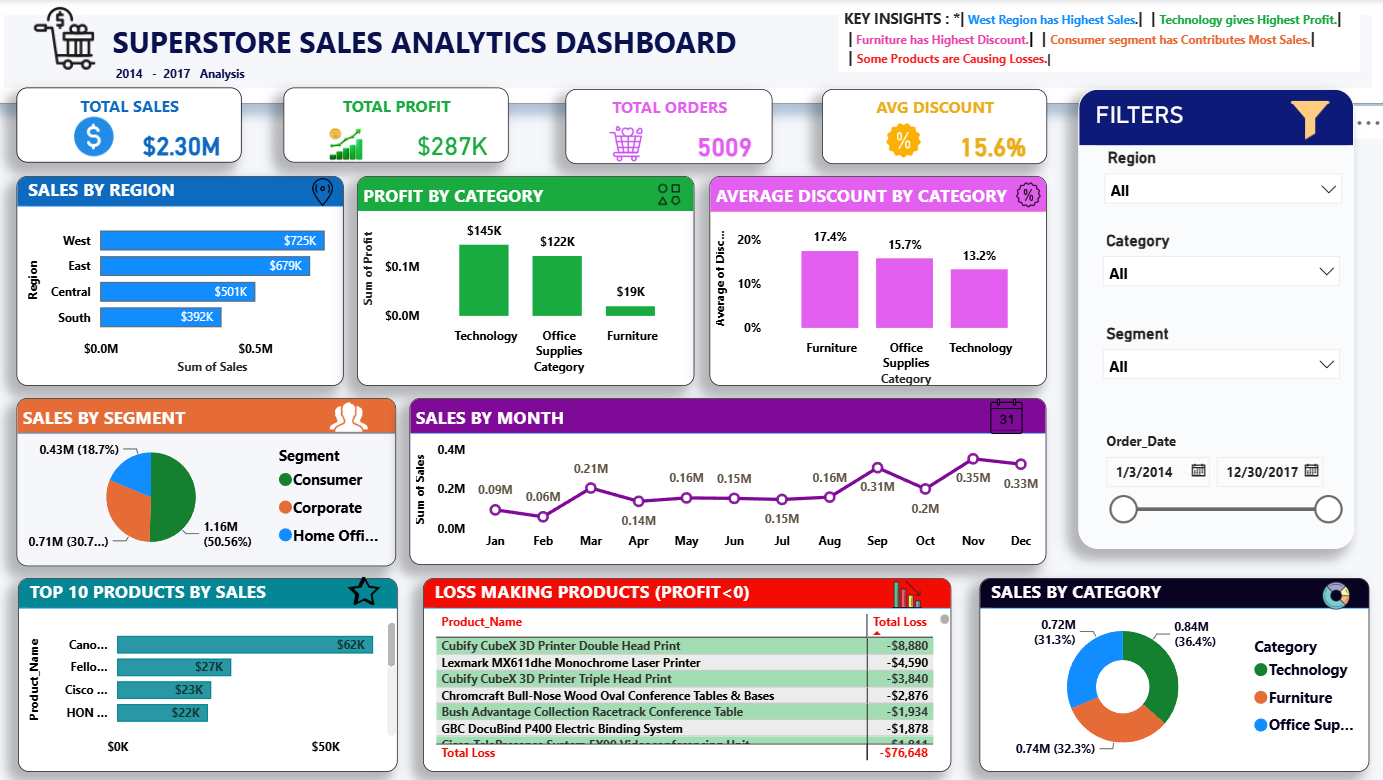

What the dashboard file says about the page in this screenshot:
{"tool":"powerbi","page":{"name":"Sales Analysis","canvas":[1280,720],"ordinal":2},"visuals":[{"type":"textbox","box":[0,0,1280.4,96.1],"z":0},{"type":"image","box":[27.4,0,85.1,71.4],"z":1000},{"type":"cardVisual","title":"TOTAL SALES","fields":{"Data":["Sum(SampleSuperstore.Sales)"]},"box":[26.1,81,205.8,68.6],"z":2000},{"type":"image","box":[64.6,99.2,64.6,53.6],"z":3000},{"type":"cardVisual","title":"TOTAL PROFIT","fields":{"Data":["Sum(SampleSuperstore.Profit)"]},"box":[270.3,81,205.8,68.6],"z":4000},{"type":"cardVisual","title":"TOTAL ORDERS","fields":{"Data":["SampleSuperstore.Total Orders"]},"box":[528.3,82.3,189.4,68.6],"z":5000},{"type":"cardVisual","title":"AVG DISCOUNT","fields":{"Data":["Avg(SampleSuperstore.Discount)"]},"box":[763,82.3,205.8,68.6],"z":6000},{"type":"image","box":[301.9,109.8,50.8,45.3],"z":7000},{"type":"image","box":[561,107.3,44.6,50.6],"z":8000},{"type":"image","box":[797,107.1,80.3,44.1],"z":9000},{"type":"clusteredBarChart","title":" SALES BY  REGION","fields":{"Y":["Sum(SampleSuperstore.Sales)"],"Category":["SampleSuperstore.Region"]},"box":[26.1,161.9,299.2,192.1],"z":10000},{"type":"image","box":[286.8,149.6,38,53],"z":11000},{"type":"clusteredColumnChart","title":" PROFIT BY CATEGORY","fields":{"Category":["SampleSuperstore.Category"],"Y":["Sum(SampleSuperstore.Profit)"]},"box":[337.6,161.9,308.8,192.1],"z":12000},{"type":"image","box":[606.6,159.2,32.9,39.8],"z":13000},{"type":"clusteredColumnChart","title":"AVERAGE DISCOUNT BY CATEGORY","fields":{"Category":["SampleSuperstore.Category"],"Y":["Avg(SampleSuperstore.Discount)"]},"box":[660.1,161.9,308.8,192.1],"z":14000},{"type":"image","box":[934.6,148.2,34.3,61.8],"z":15000},{"type":"pieChart","title":" SALES BY SEGMENT","fields":{"Y":["Sum(SampleSuperstore.Sales)"],"Category":["SampleSuperstore.Segment"]},"box":[26.1,365,347.2,153.7],"z":16000},{"type":"image","box":[307.4,358.2,45.3,49.4],"z":17000},{"type":"lineChart","title":"SALES BY MONTH","fields":{"Y":["Sum(SampleSuperstore.Sales)"],"Category":["SampleSuperstore.Month"]},"box":[385.7,365.7,582.9,152.9],"z":18000},{"type":"clusteredBarChart","title":"TOP 10 PRODUCTS BY  SALES","fields":{"Category":["SampleSuperstore.Product_Name"],"Y":["Sum(SampleSuperstore.Sales)"]},"box":[27.4,529.7,347.2,177],"z":19000},{"type":"tableEx","title":"LOSS MAKING PRODUCTS (PROFIT<0)","fields":{"Values":["SampleSuperstore.Product_Name","SampleSuperstore.Total Loss"]},"box":[398,529.7,483.1,177],"z":20000},{"type":"donutChart","title":"SALES BY  CATEGORY","fields":{"Category":["SampleSuperstore.Category"],"Y":["Sum(SampleSuperstore.Sales)"]},"box":[907.1,529.7,356.8,177],"z":21000},{"type":"textbox","title":"FILTERS","box":[997,81.9,252,420.5],"z":22000},{"type":"slicer","fields":{"Values":["SampleSuperstore.Region"]},"box":[1011.4,131.7,237.4,78.2],"z":23000},{"type":"slicer","fields":{"Values":["SampleSuperstore.Category"]},"box":[1010.6,206.6,237,62.8],"z":24000},{"type":"slicer","fields":{"Values":["SampleSuperstore.Segment"]},"box":[1010.6,291.6,237,115.4],"z":25000},{"type":"slicer","fields":{"Values":["SampleSuperstore.Order_Date"]},"box":[1010.6,390.9,237,101.3],"z":26000},{"type":"image","box":[894.8,358.2,74.1,49.4],"z":27000},{"type":"image","box":[312.9,522,61.8,39.8],"z":28000},{"type":"image","box":[804.3,521.4,73,46],"z":29000},{"type":"image","box":[1210,521.4,45.7,48.6],"z":30000},{"type":"image","box":[1172,82.3,75.5,54.9],"z":31000},{"type":"textbox","box":[778.6,2.9,477.1,64.3],"z":32000}]}

Visuals, with their boxes in screenshot pixels (x1, y1, x2, y2), scaled from the page's 1280x720 canvas onto the 1383x780 screenshot:
textbox: (left=0, top=0, right=1382, bottom=104)
image: (left=30, top=0, right=122, bottom=77)
"TOTAL SALES" cardVisual: (left=28, top=88, right=251, bottom=162)
image: (left=70, top=107, right=140, bottom=166)
"TOTAL PROFIT" cardVisual: (left=292, top=88, right=514, bottom=162)
"TOTAL ORDERS" cardVisual: (left=571, top=89, right=775, bottom=163)
"AVG DISCOUNT" cardVisual: (left=824, top=89, right=1047, bottom=163)
image: (left=326, top=119, right=381, bottom=168)
image: (left=606, top=116, right=654, bottom=171)
image: (left=861, top=116, right=948, bottom=164)
" SALES BY  REGION" clusteredBarChart: (left=28, top=175, right=351, bottom=384)
image: (left=310, top=162, right=351, bottom=219)
" PROFIT BY CATEGORY" clusteredColumnChart: (left=365, top=175, right=698, bottom=384)
image: (left=655, top=172, right=691, bottom=216)
"AVERAGE DISCOUNT BY CATEGORY" clusteredColumnChart: (left=713, top=175, right=1047, bottom=384)
image: (left=1010, top=161, right=1047, bottom=227)
" SALES BY SEGMENT" pieChart: (left=28, top=395, right=403, bottom=562)
image: (left=332, top=388, right=381, bottom=442)
"SALES BY MONTH" lineChart: (left=417, top=396, right=1047, bottom=562)
"TOP 10 PRODUCTS BY  SALES" clusteredBarChart: (left=30, top=574, right=405, bottom=766)
"LOSS MAKING PRODUCTS (PROFIT<0)" tableEx: (left=430, top=574, right=952, bottom=766)
"SALES BY  CATEGORY" donutChart: (left=980, top=574, right=1366, bottom=766)
"FILTERS" textbox: (left=1077, top=89, right=1350, bottom=544)
slicer - SampleSuperstore.Region: (left=1093, top=143, right=1349, bottom=227)
slicer - SampleSuperstore.Category: (left=1092, top=224, right=1348, bottom=292)
slicer - SampleSuperstore.Segment: (left=1092, top=316, right=1348, bottom=441)
slicer - SampleSuperstore.Order_Date: (left=1092, top=423, right=1348, bottom=533)
image: (left=967, top=388, right=1047, bottom=442)
image: (left=338, top=566, right=405, bottom=609)
image: (left=869, top=565, right=948, bottom=615)
image: (left=1307, top=565, right=1357, bottom=618)
image: (left=1266, top=89, right=1348, bottom=149)
textbox: (left=841, top=3, right=1357, bottom=73)
